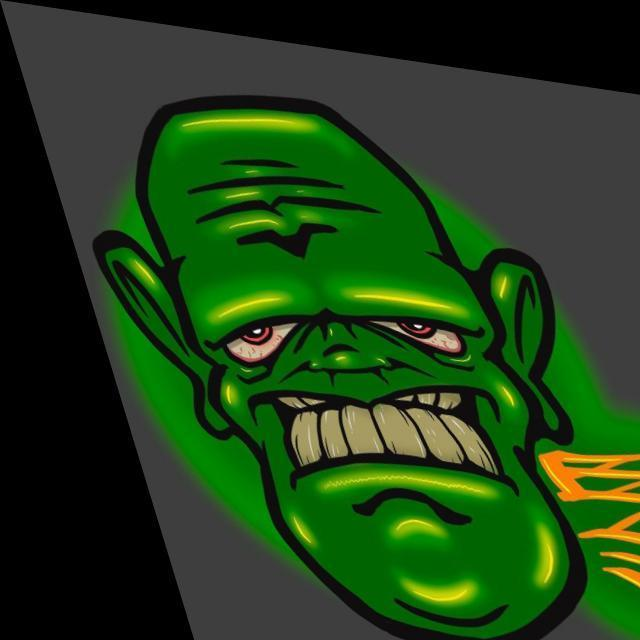-: (38, 44, 640, 640), (507, 407, 640, 628)
